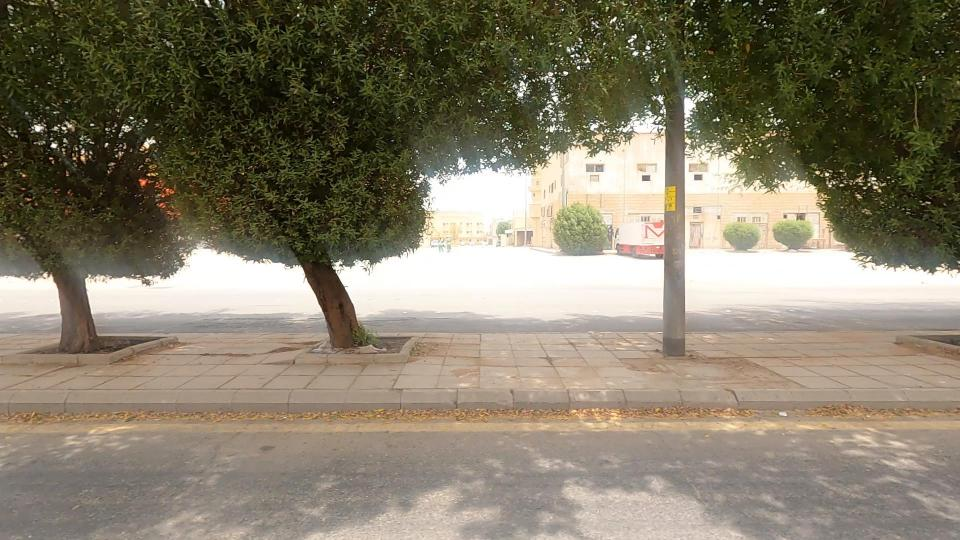GARBAGE: (324, 314, 412, 383)
